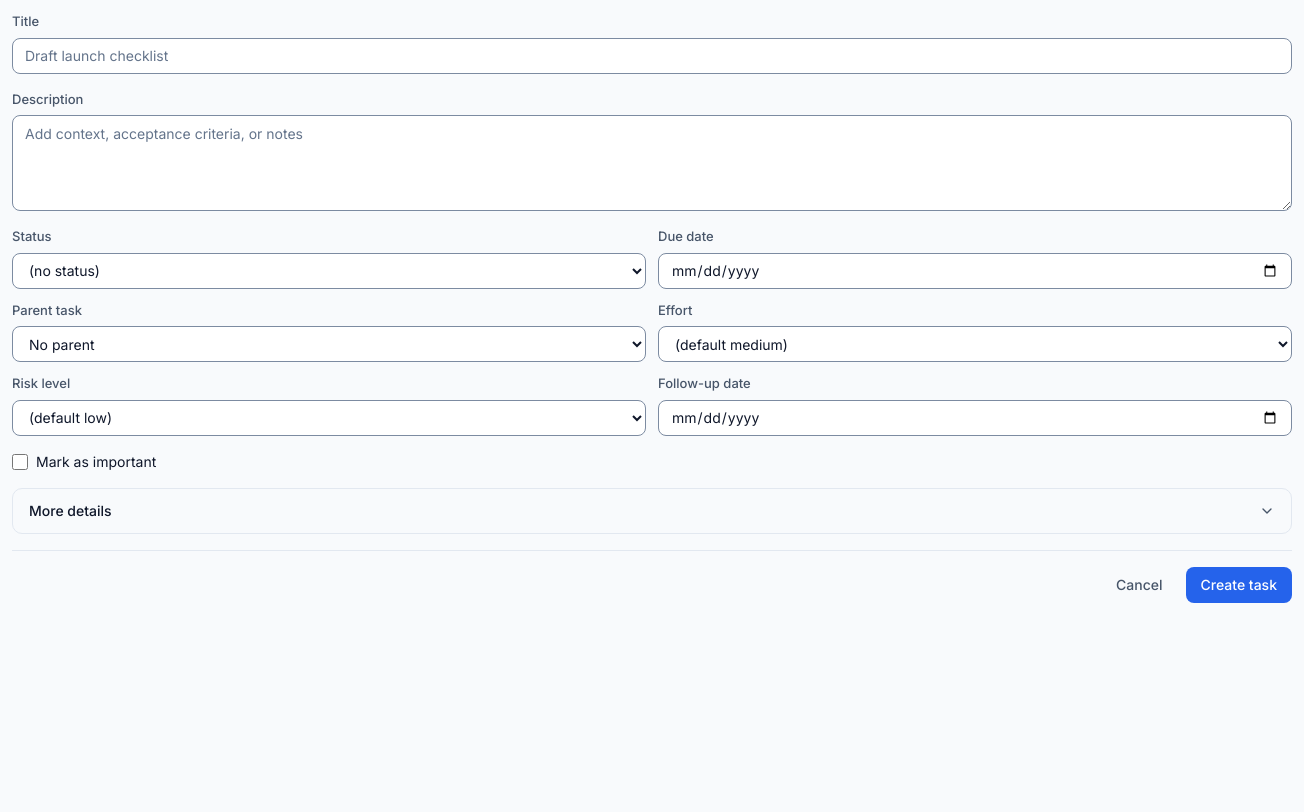
it: TaskCreateForm cross-field validation › blocks submit and explains why when status is Blocked with no blocked reason
Type "Ship release" into the field labelled "Title" at x=652, y=56, box [12,38,1292,74]
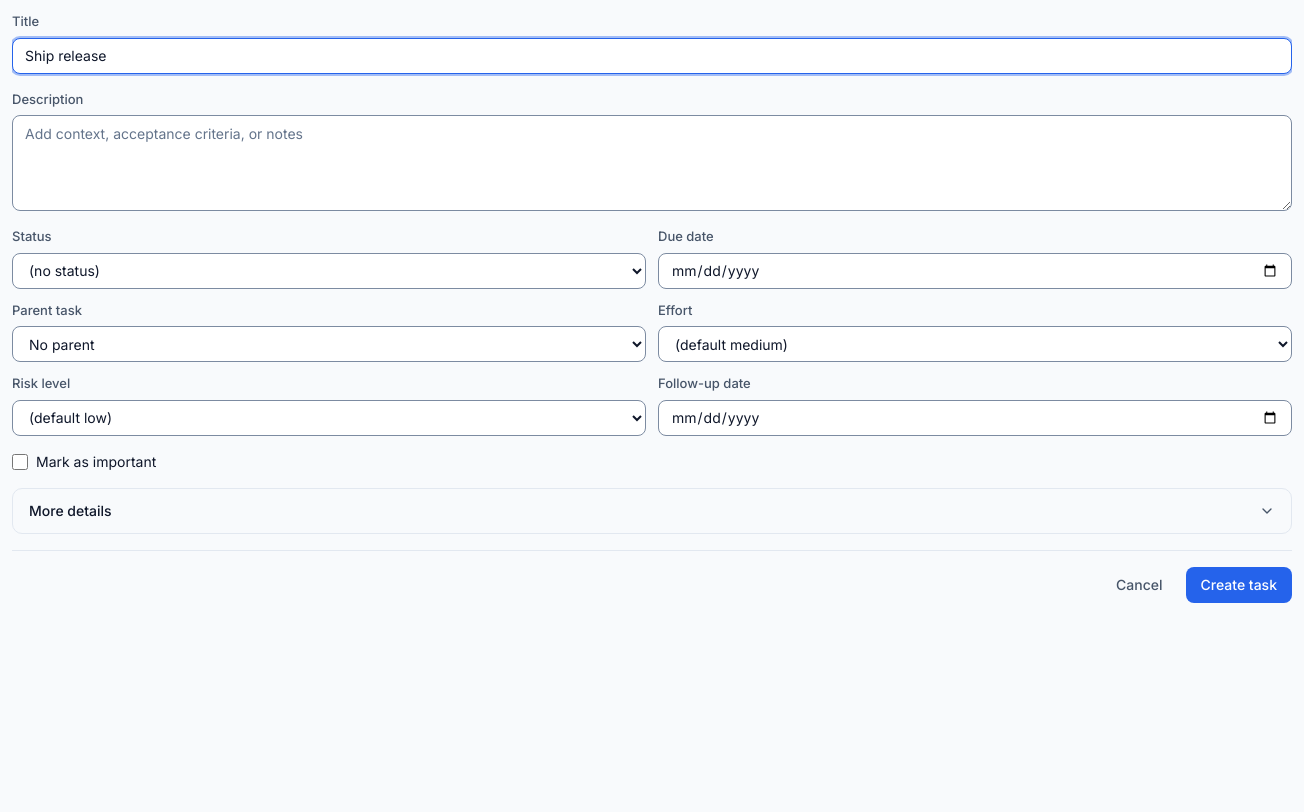
Select "BLOCKED" in the dropdown labelled "Status" at x=329, y=270, box [12,252,646,288]
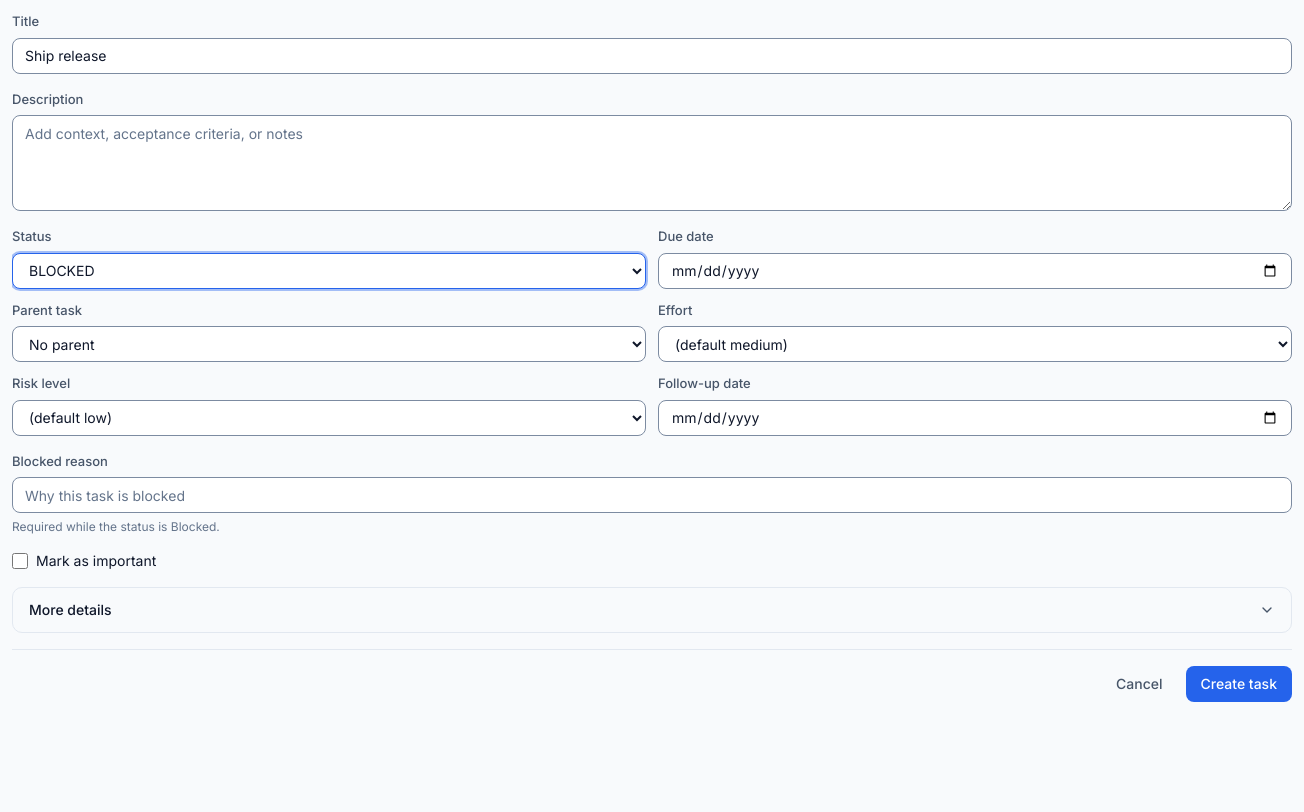
Click the button "Create task" at x=1239, y=684, box [1186,666,1292,702]
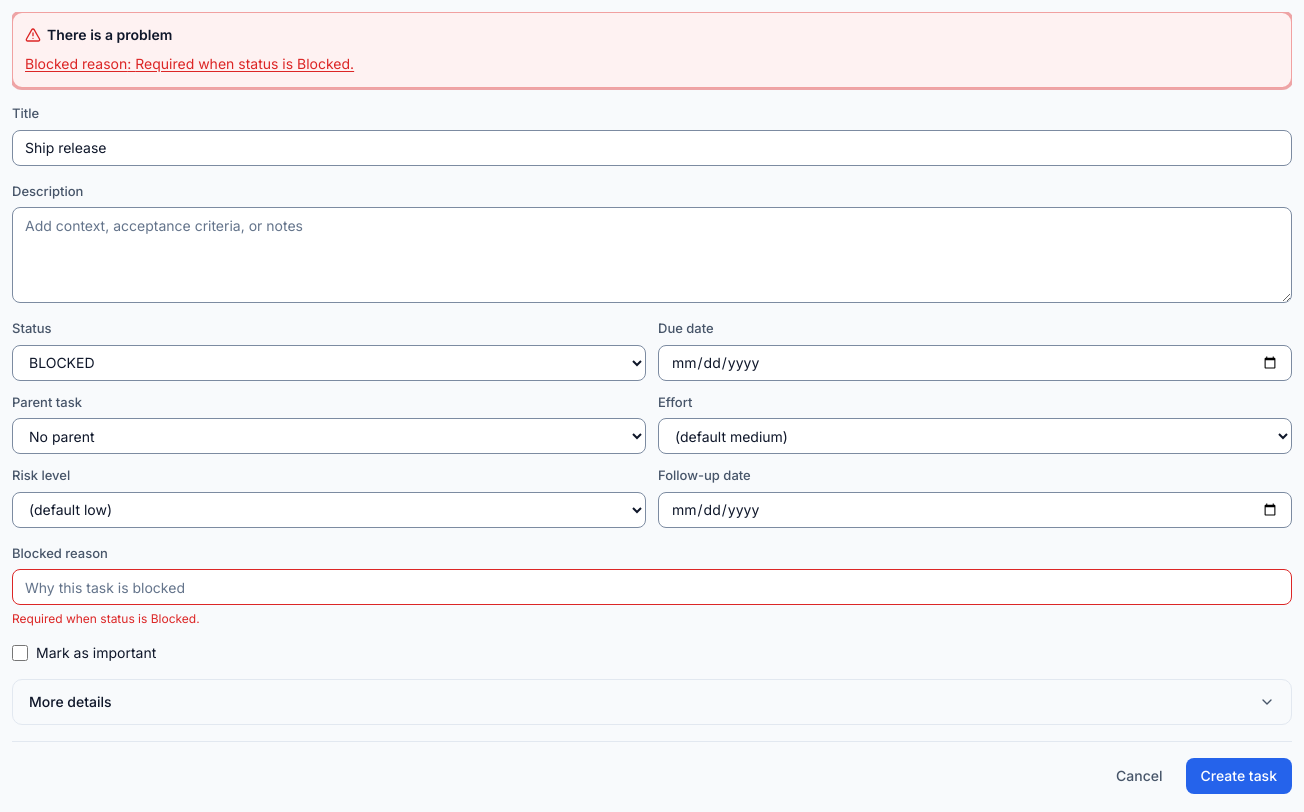
Expected: the text "Required when status is Blocked." is shown, [12,611,200,626]
